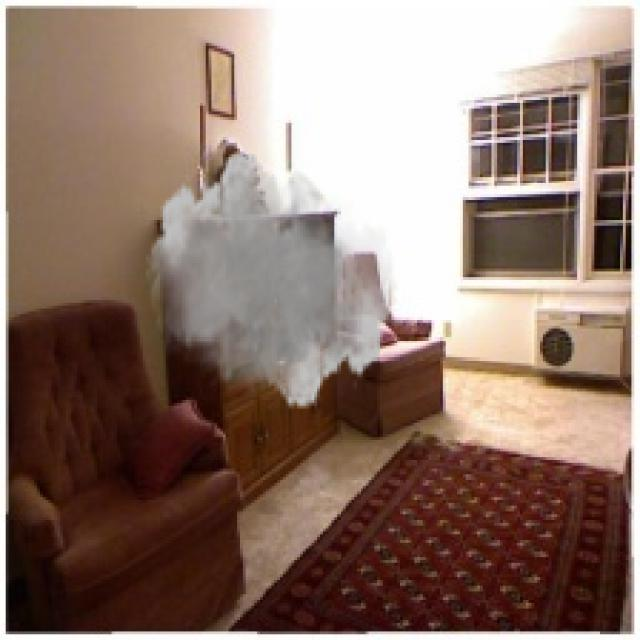smoke: (146, 148, 397, 412)
